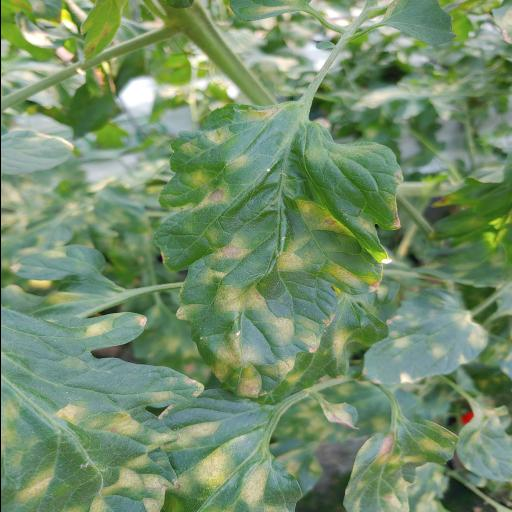Leaf Mold: (149, 104, 405, 398), (0, 305, 205, 512), (342, 423, 460, 512)
